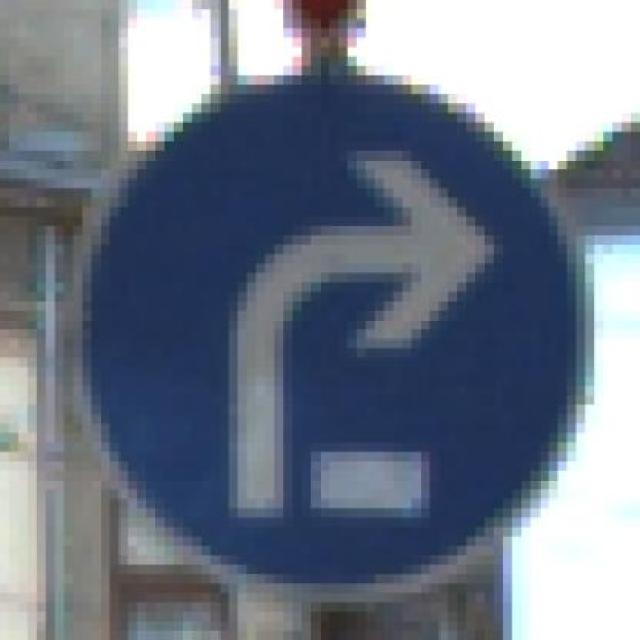Turn right ahead: (82, 65, 595, 593)
